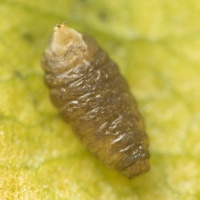insect: (42, 23, 149, 176)
